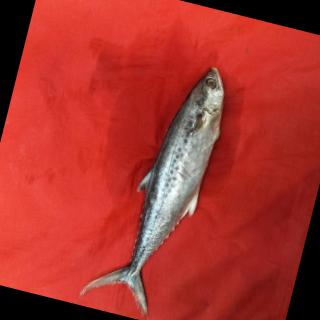Ikan: (63, 35, 257, 320)
